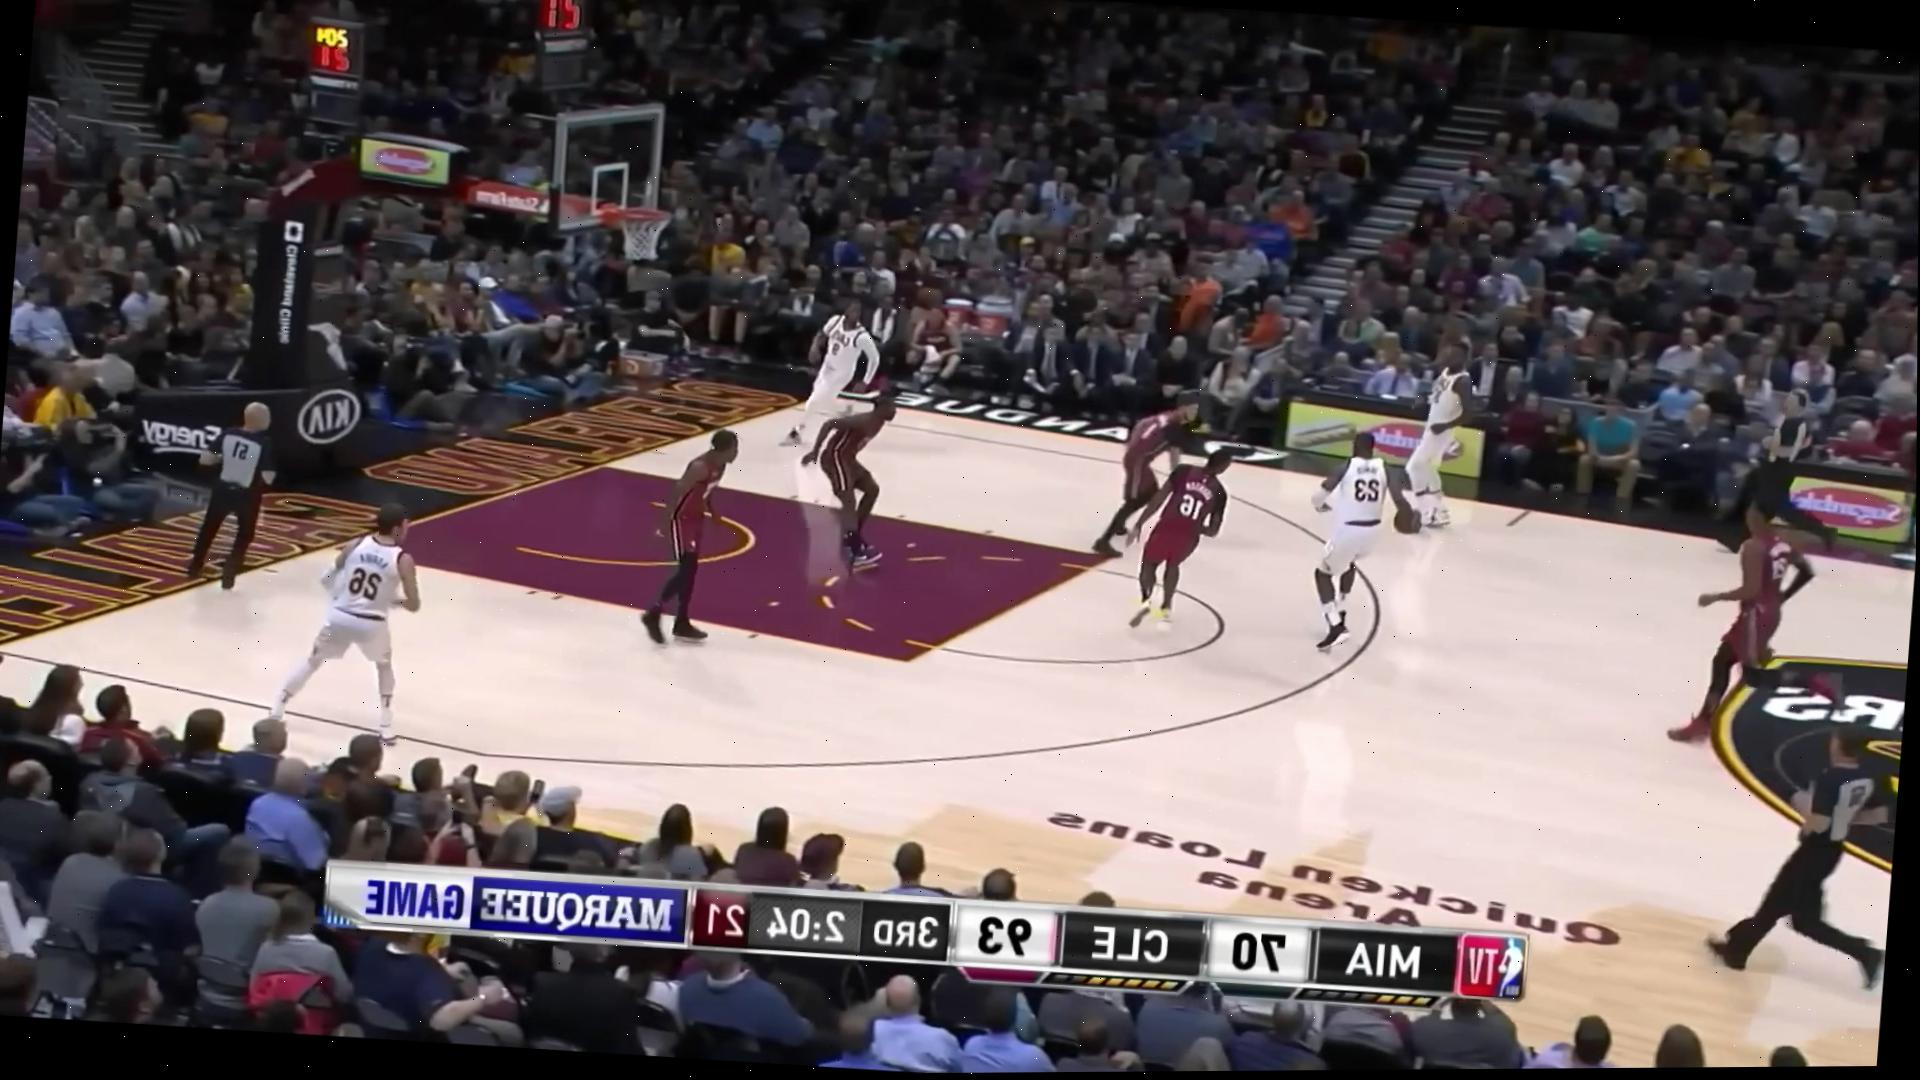no_foul: (1082, 404, 1439, 676)
